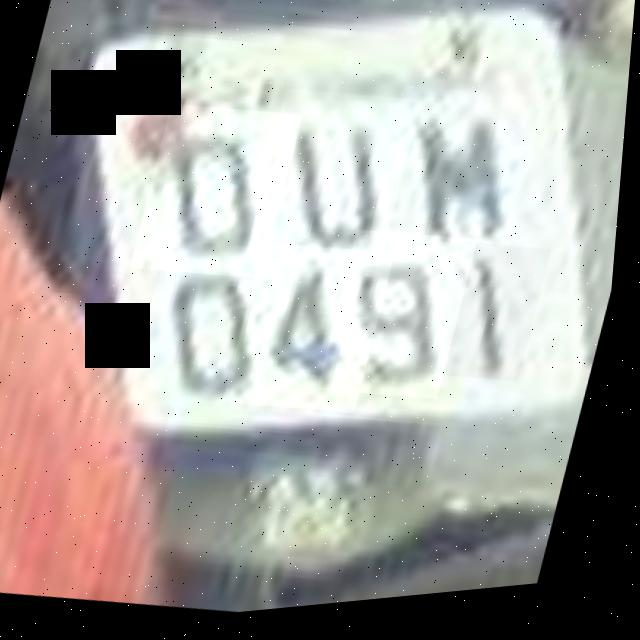0: (132, 239, 309, 430)
1: (434, 244, 557, 399)
4: (228, 237, 401, 431)
9: (322, 228, 483, 418)
N: (370, 82, 550, 271)
U: (246, 84, 426, 285), (132, 97, 306, 294)
